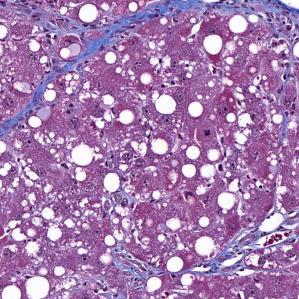fibrosis: (63, 21, 127, 58)
